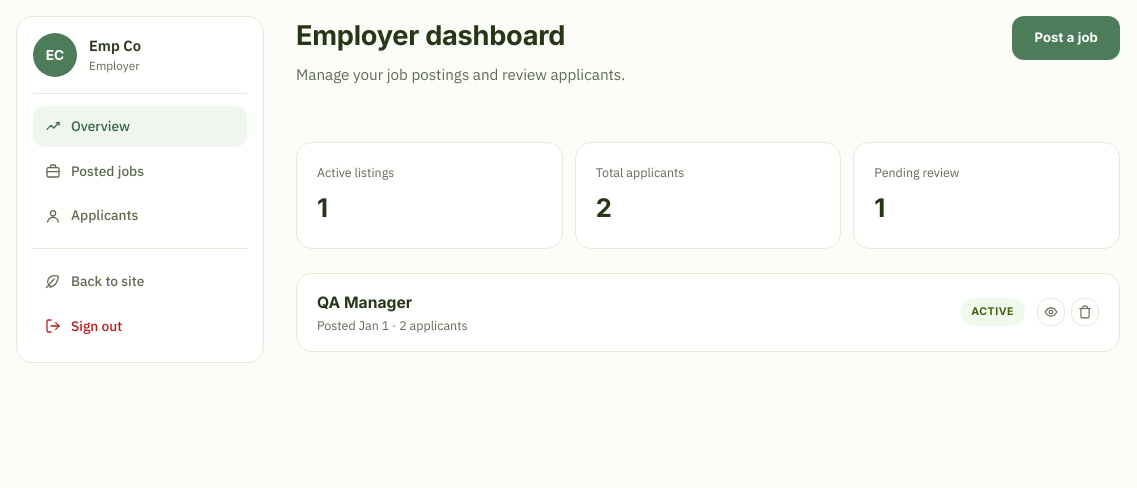
Test: EmployerDashboard applicants list — no match-score column (story-auth-10 AC#3) › shows an empty state when no applicants (AC#3)
Click the button "Applicants" at {"x": 140, "y": 216}, box [33, 195, 247, 236]
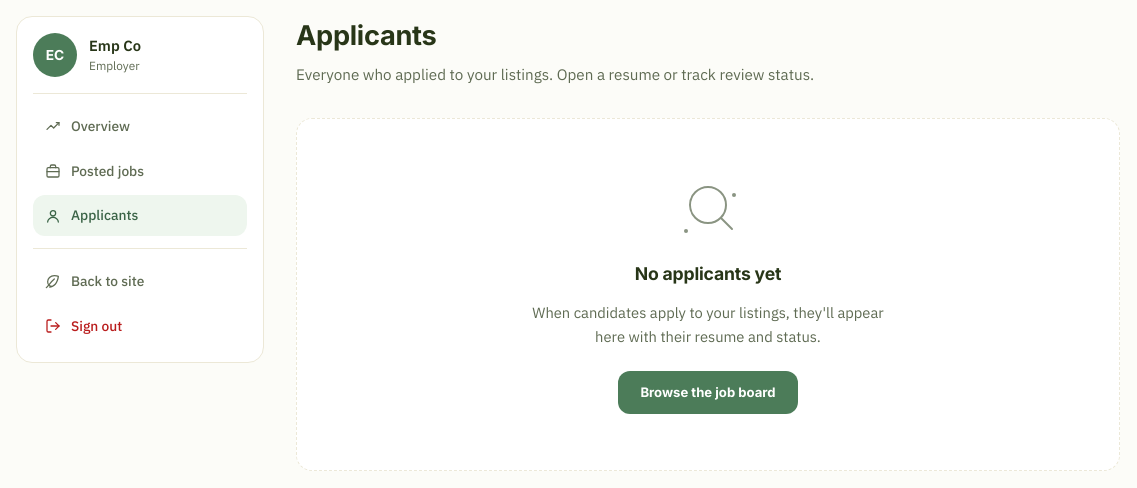
Check: the heading "No applicants yet" is shown, box [635, 261, 781, 287]
